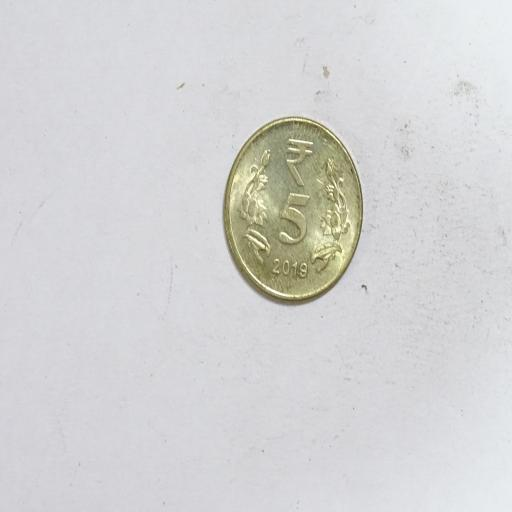rupee5: (222, 118, 361, 302)
